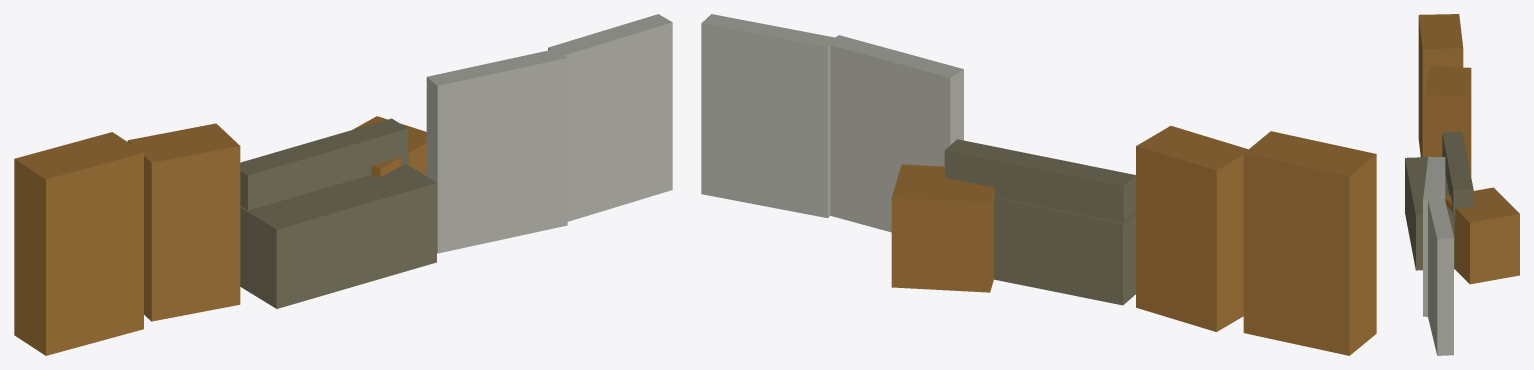
The model's file is SM_BarricadaCivil_v1_Muebles_e0_Sano_LOD0.fbx.
The picture shows the model from 3 angles, left to right: view 1: azimuth 30°, elevation 25°; view 2: azimuth 150°, elevation 25°; view 3: azimuth 270°, elevation 25°; orthographic projection. The views are drawn at different scales.
Parts seen in each view (by area): view 1: SM_barricada_civil_v4_LOD0; view 2: SM_barricada_civil_v4_LOD0; view 3: SM_barricada_civil_v4_LOD0.
Boxes of the visible parts, bbox=[...] form: SM_barricada_civil_v4_LOD0: bbox=[14, 14, 672, 355]; SM_barricada_civil_v4_LOD0: bbox=[701, 14, 1376, 355]; SM_barricada_civil_v4_LOD0: bbox=[1405, 14, 1519, 355].
Size of the model in its own units: 7.62 by 2 by 1.69.
